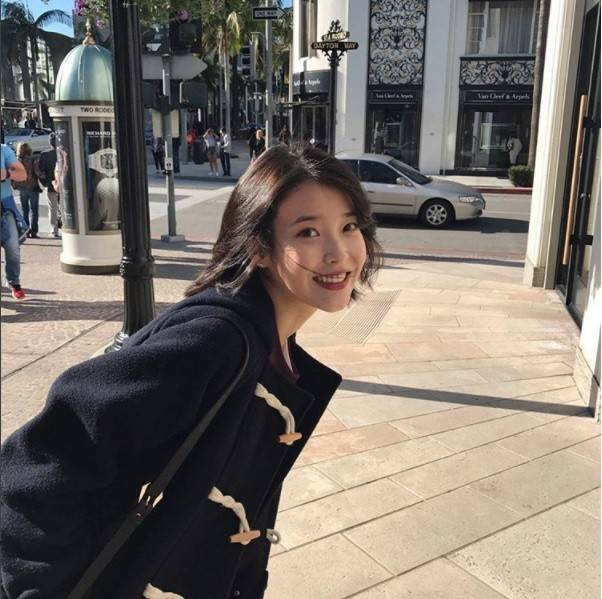people: (110, 149, 368, 599), (1, 141, 23, 300), (14, 141, 45, 235), (40, 130, 68, 232), (201, 126, 218, 174), (218, 124, 233, 176), (248, 127, 267, 158)
